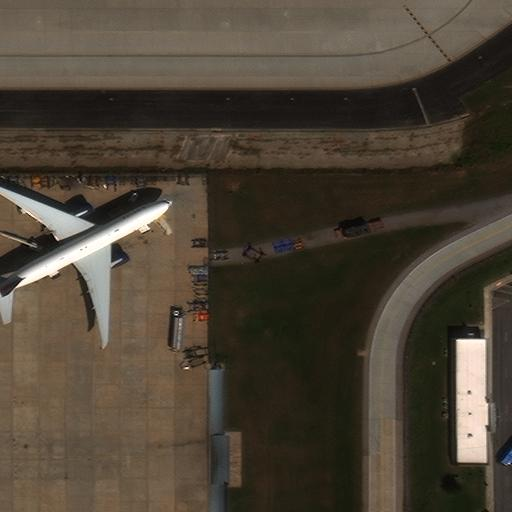Large Civil Transport: (0, 184, 173, 341)
